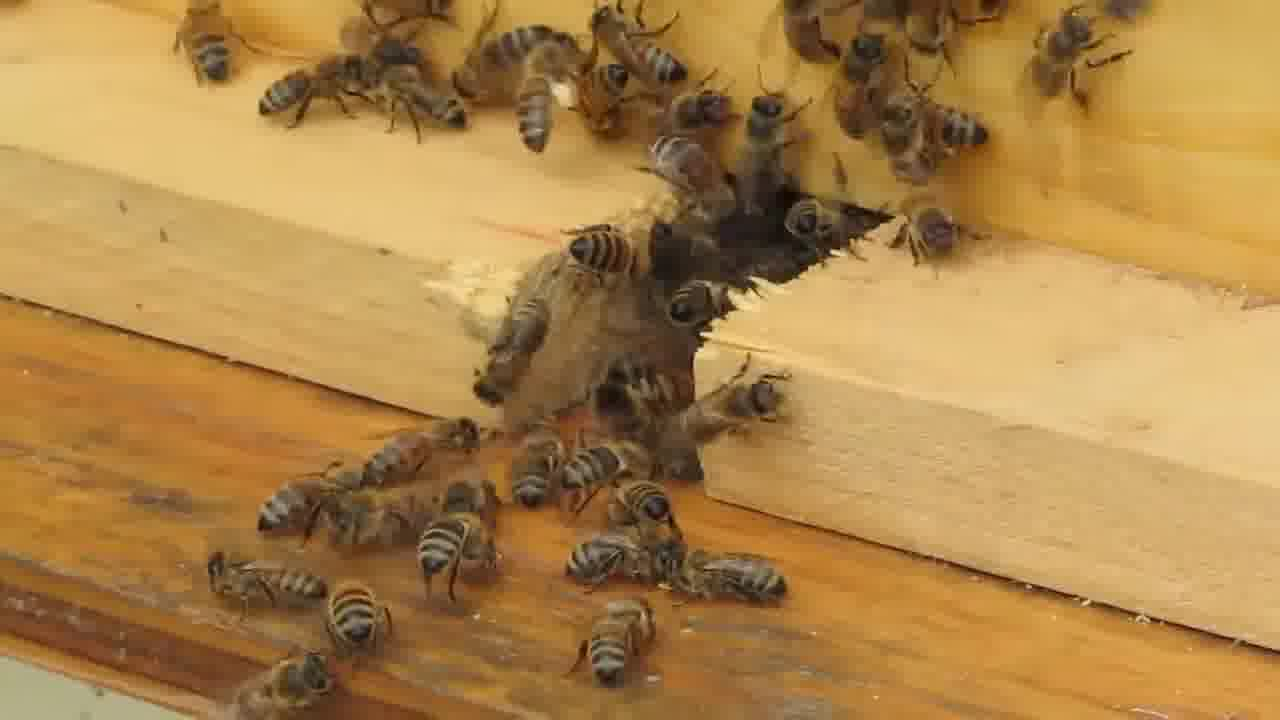pollen: (515, 39, 575, 164)
